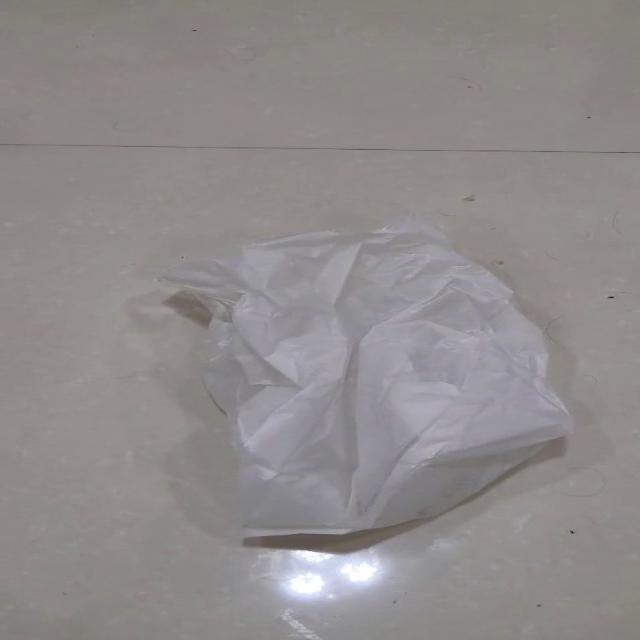plastic: (152, 214, 574, 536)
